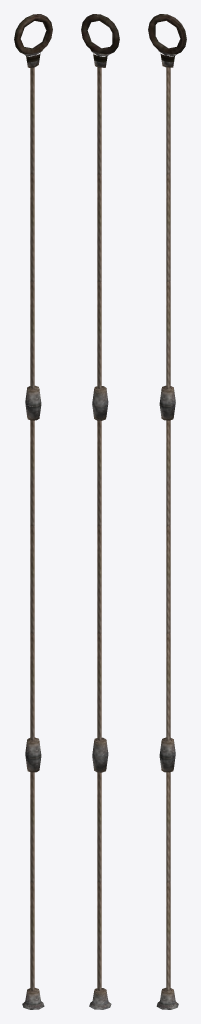
Rendered from o_mdl_env_propLeverWoodC_c-transformed.glb.
3 views of the same model, side by side, from view 1: azimuth 30°, elevation 25°; view 2: azimuth 150°, elevation 25°; view 3: azimuth 330°, elevation 25° (orthographic).
Parts seen in each view (by area): view 1: default; view 2: default; view 3: default.
Boxes of the visible parts, x1,y1,x2,y2 form: default: (14,14,52,1009); default: (81,14,119,1009); default: (148,14,186,1009).
Size of the model in its own units: 0.4262 by 10.39 by 0.2201.
2 materials, 2 textured.
